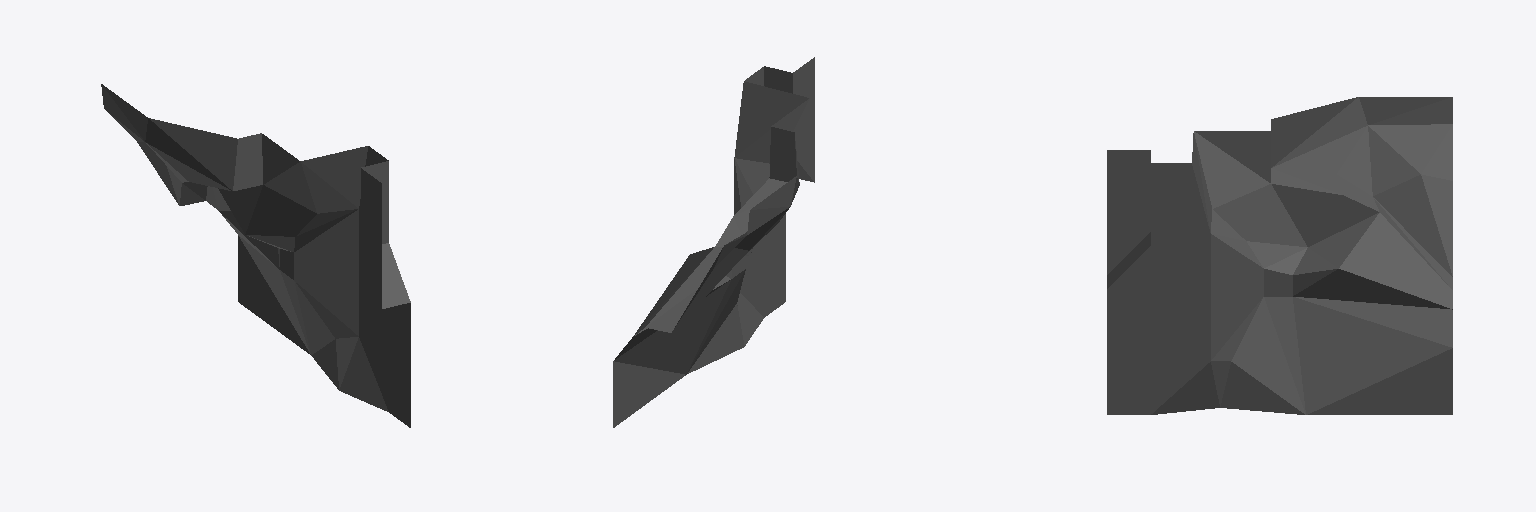
The model's file is wall_1s.obj.
3 renders of one model, left to right at view 1: azimuth 30°, elevation 25°; view 2: azimuth 150°, elevation 25°; view 3: azimuth 270°, elevation 25°, orthographic.
Parts seen in each view (by area): view 1: Mesh_Plane001; view 2: Mesh_Plane001; view 3: Mesh_Plane001.
Part boxes in pixels (left/top/right/bottom): Mesh_Plane001: left=101, top=84, right=410, bottom=427; Mesh_Plane001: left=613, top=57, right=814, bottom=427; Mesh_Plane001: left=1107, top=97, right=1452, bottom=414.
Bounding box in the file's own units: 21.83 × 38.42 × 47.84.